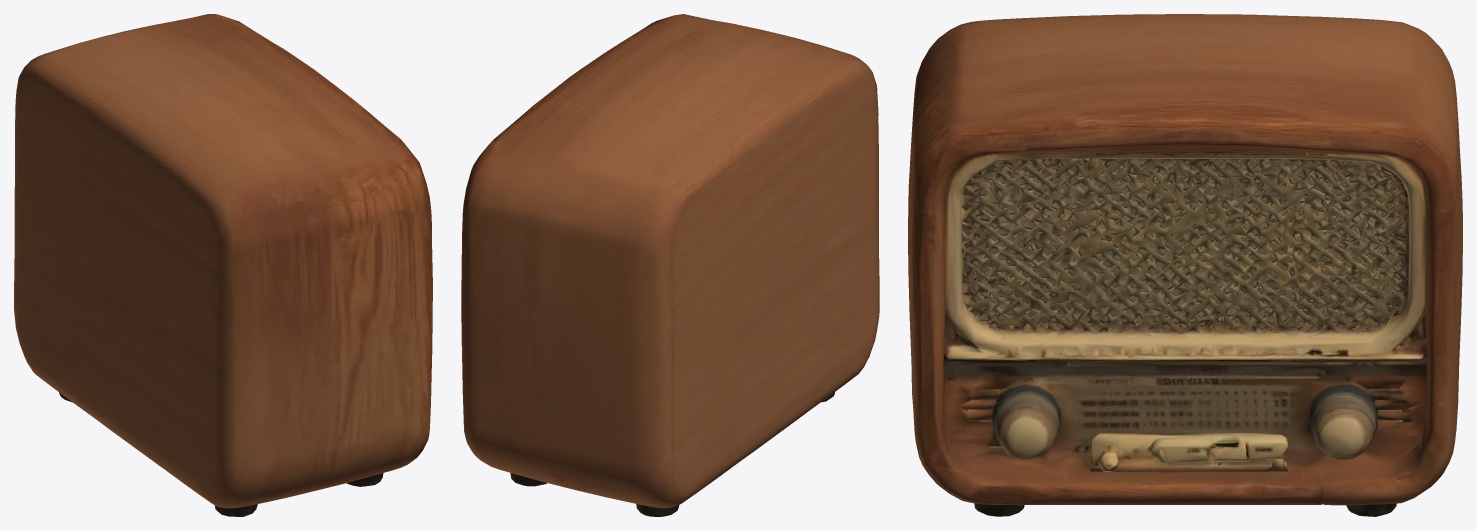
Rendered from radio.glb.
3 renders of one model, left to right at view 1: azimuth 30°, elevation 25°; view 2: azimuth 150°, elevation 25°; view 3: azimuth 270°, elevation 25°, orthographic. The views are drawn at different scales.
Parts seen in each view (by area): view 1: tripo_node_c2504c9b-189b-4553-b573-a52b55acb216; view 2: tripo_node_c2504c9b-189b-4553-b573-a52b55acb216; view 3: tripo_node_c2504c9b-189b-4553-b573-a52b55acb216.
Part boxes in pixels (x1,y1,x2,y2): tripo_node_c2504c9b-189b-4553-b573-a52b55acb216: (14, 14, 432, 516); tripo_node_c2504c9b-189b-4553-b573-a52b55acb216: (461, 14, 879, 516); tripo_node_c2504c9b-189b-4553-b573-a52b55acb216: (908, 14, 1462, 516).
Size of the model in its own units: 0.1981 by 0.3 by 0.3596.
1 material, 1 textured.
